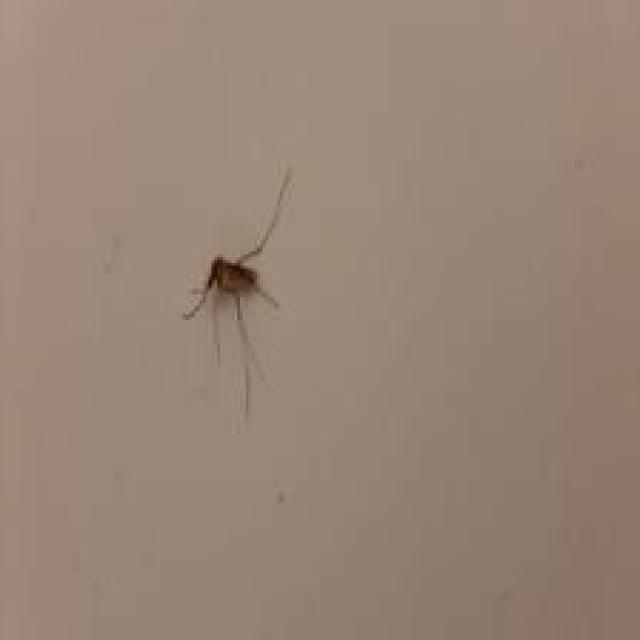Culex: (180, 162, 294, 418)
